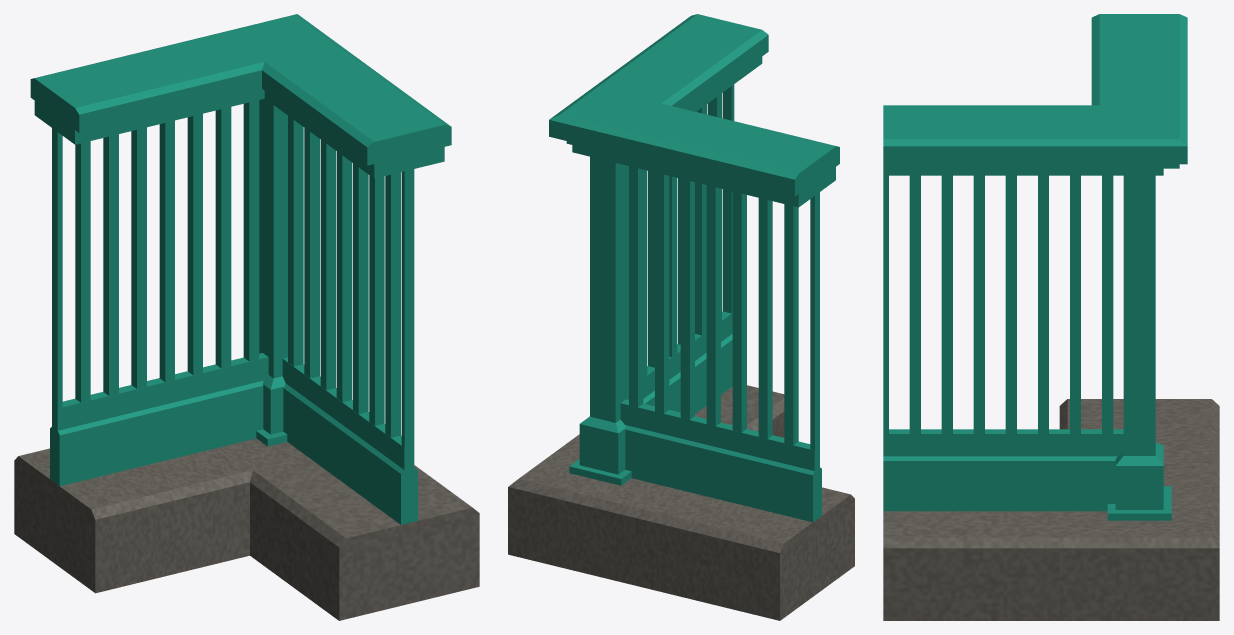
Rendered from nyc_subway_entrance_1_fence_3.obj.
3 views of the same model, side by side, from view 1: azimuth 30°, elevation 25°; view 2: azimuth 150°, elevation 25°; view 3: azimuth 270°, elevation 25° (orthographic). The views are drawn at different scales.
Visible parts, largest first — view 1: cube; view 2: cube; view 3: cube.
Part boxes in pixels (box(x1,y1,x2,y2)): cube: box(14, 14, 479, 620); cube: box(508, 14, 854, 620); cube: box(883, 14, 1219, 620).
Size of the model in its own units: 0.6562 by 1 by 0.6562.
Materials: 2 (2 with a texture image).
